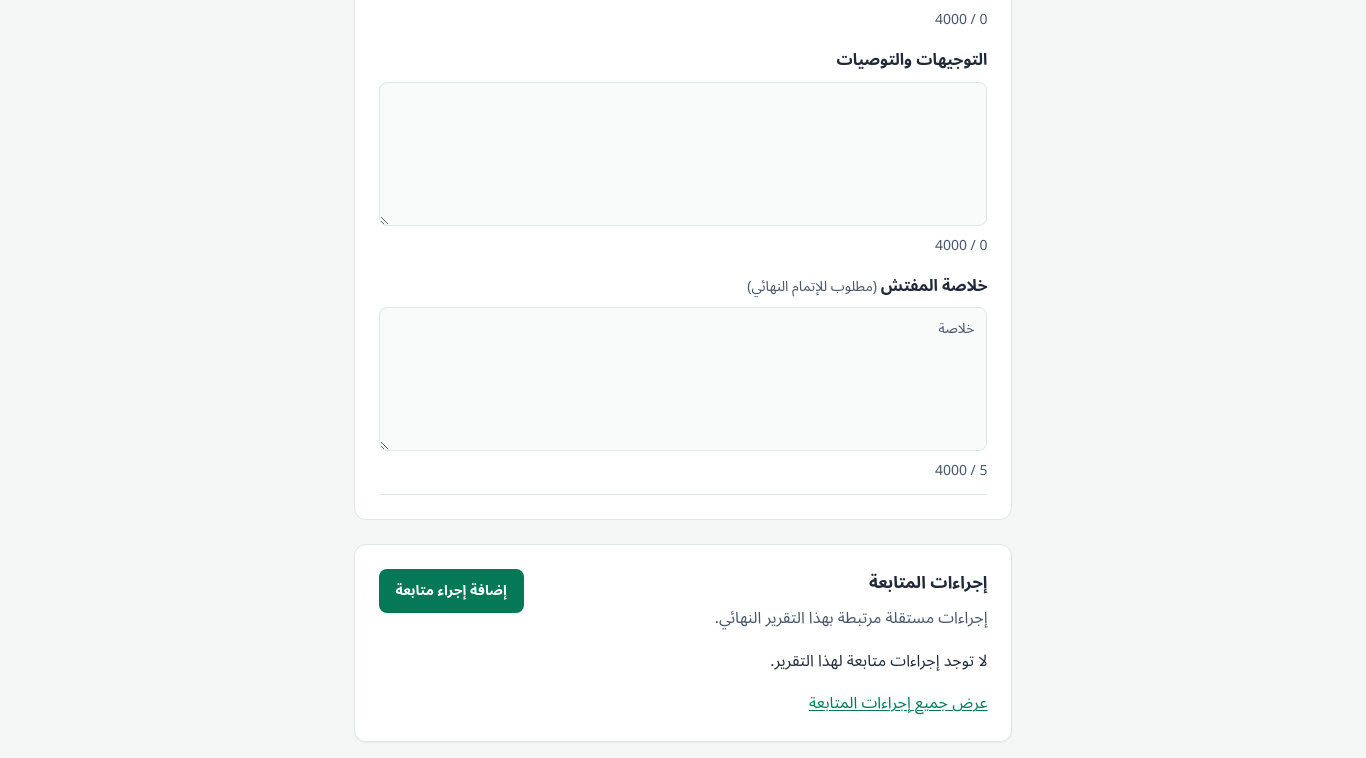
Test case: TASK-052 report UI › offers independent follow-up creation only after report is final
(page scrolled)
expect the heading "إجراءات المتابعة" is shown: met, box [869,565,987,601]
Click the button "إضافة إجراء متابعة": (451, 591) [378,569,524,613]
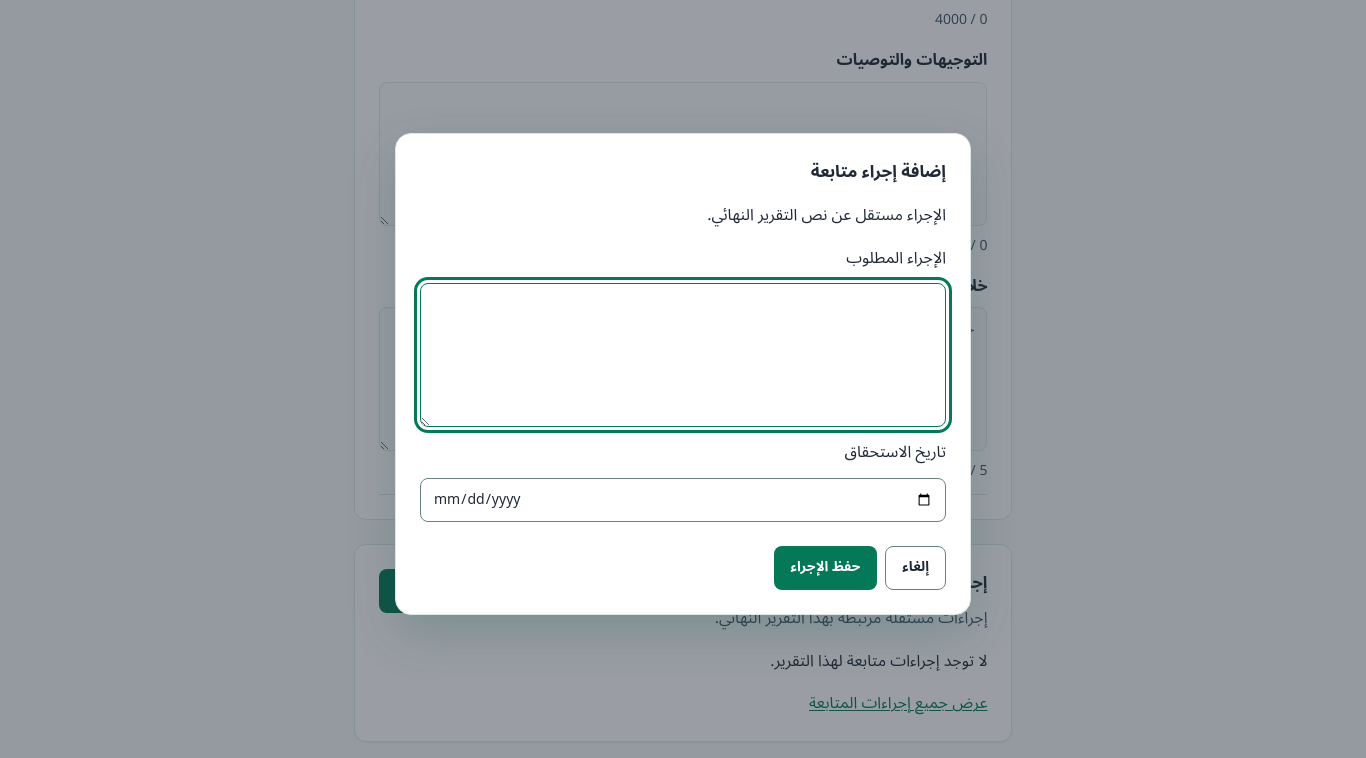
In the text box labelled "الإجراء المطلوب": (683, 355) [420,283,946,427], type "تحقق من التطبيق"
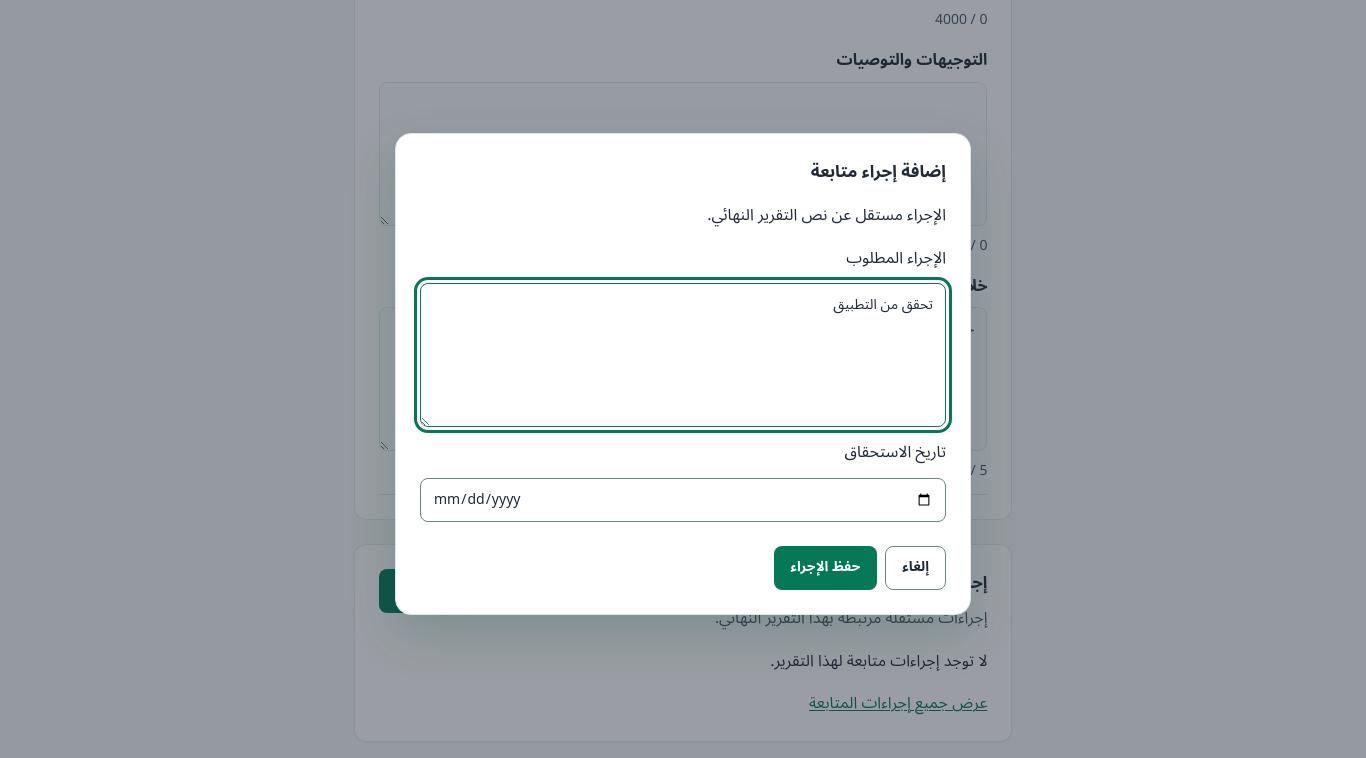
In the date field labelled "تاريخ الاستحقاق": (683, 500) [420,478,946,522], type "2026-10-10"
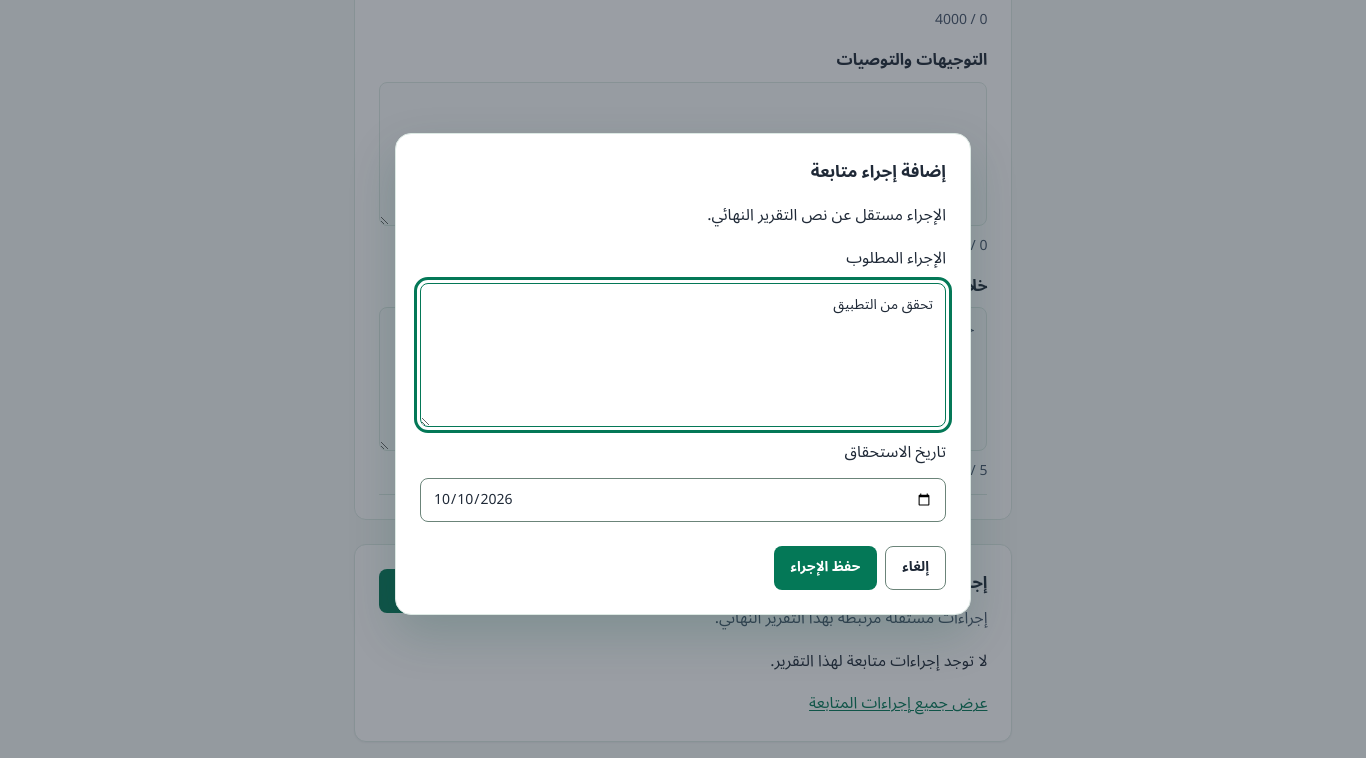
Click the button "حفظ الإجراء": (825, 568) [774,546,877,590]
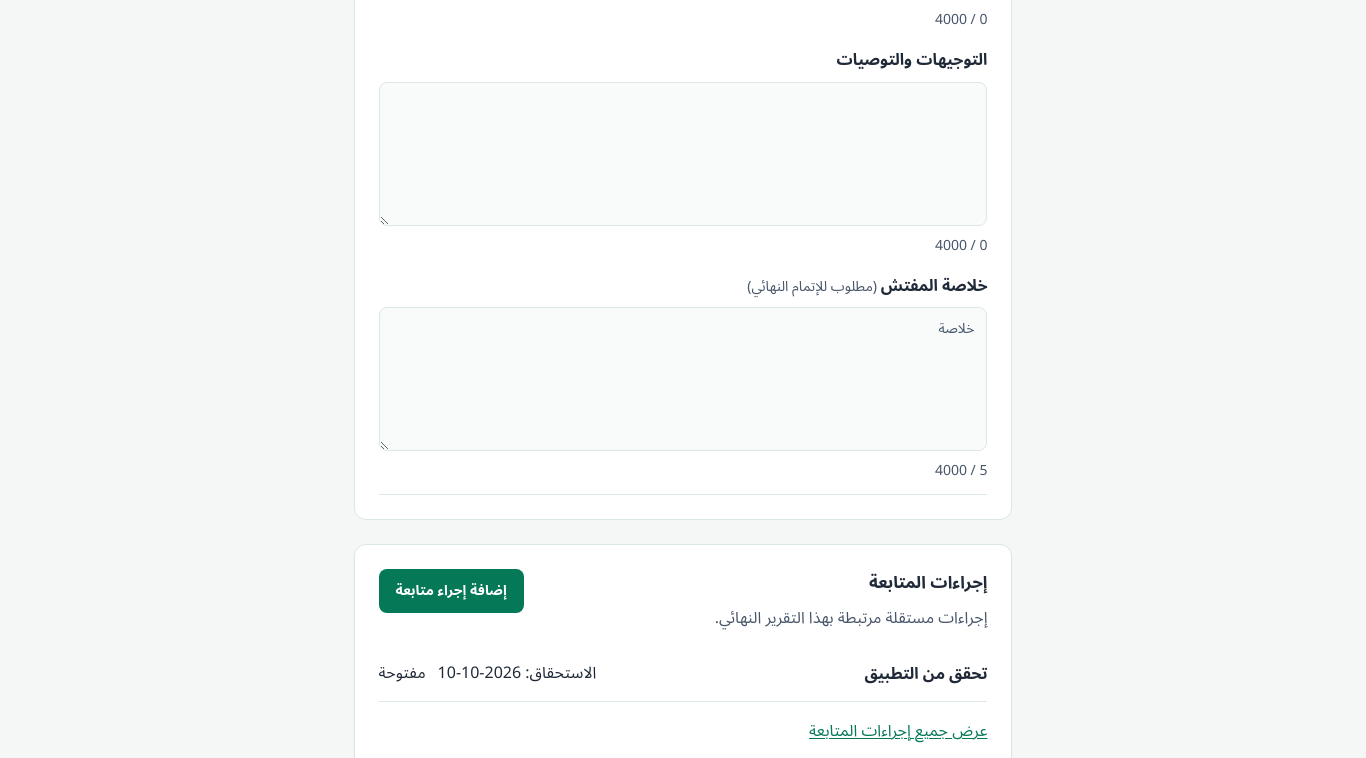
expect the text "تحقق من التطبيق" is shown: met, box [864,657,988,691]
